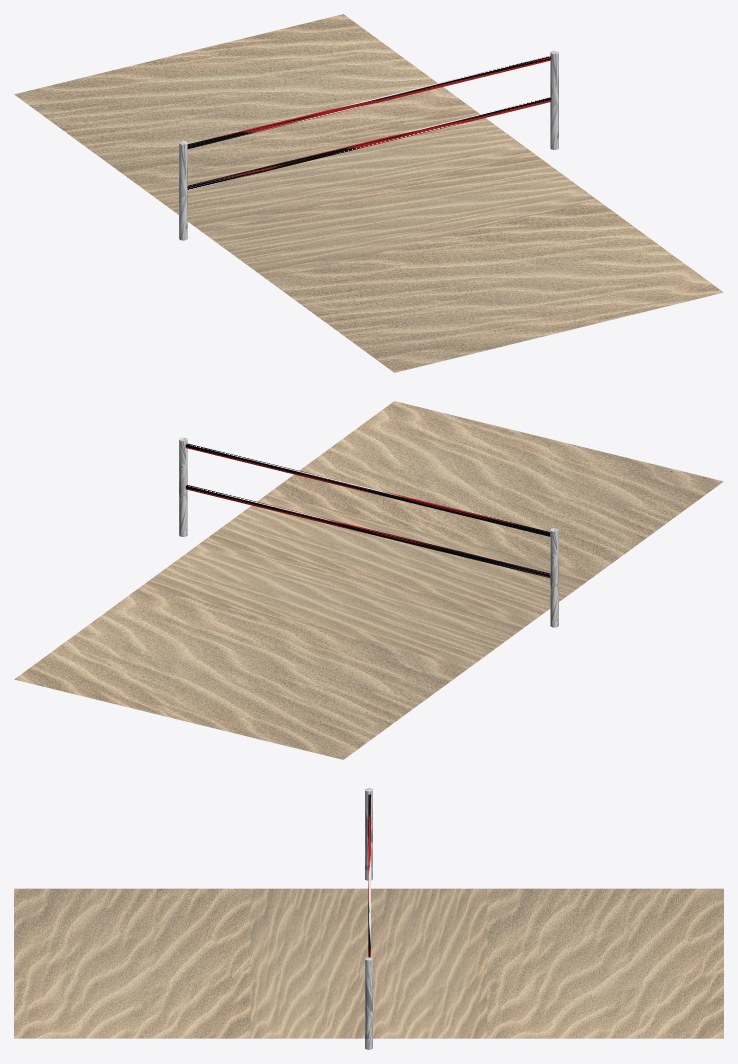
The model's file is Voleyball_Court.obj.
3 renders of one model, top to bottom at view 1: azimuth 30°, elevation 25°; view 2: azimuth 150°, elevation 25°; view 3: azimuth 270°, elevation 25°, orthographic. The views are drawn at different scales.
Parts seen in each view (by area): view 1: Plane.002, Plane.003, Plane, Plane.001, Cube.001, Cube, Cylinder.001, Cylinder; view 2: Plane.003, Plane.002, Plane.001, Plane, Cube, Cube.001, Cylinder.001, Cylinder; view 3: Plane.002, Plane.003, Plane, Plane.001, Cylinder, Cylinder.001, Cube.
Part boxes in pixels (left/top/right/bottom): Plane.002: left=268, top=200, right=723, bottom=372; Plane.003: left=14, top=14, right=469, bottom=186; Plane: left=204, top=153, right=596, bottom=279; Plane.001: left=141, top=107, right=533, bottom=233; Cube.001: left=187, top=97, right=551, bottom=190; Cube: left=187, top=56, right=551, bottom=148; Cylinder.001: left=179, top=141, right=187, bottom=240; Cylinder: left=550, top=50, right=558, bottom=149; Plane.003: left=14, top=587, right=469, bottom=759; Plane.002: left=268, top=401, right=723, bottom=573; Plane.001: left=141, top=540, right=533, bottom=666; Plane: left=204, top=494, right=596, bottom=620; Cube: left=185, top=443, right=550, bottom=536; Cube.001: left=185, top=485, right=550, bottom=577; Cylinder.001: left=550, top=528, right=558, bottom=627; Cylinder: left=179, top=437, right=187, bottom=536; Plane.002: left=14, top=888, right=250, bottom=1038; Plane.003: left=487, top=888, right=723, bottom=1038; Plane: left=250, top=888, right=368, bottom=1038; Plane.001: left=371, top=888, right=487, bottom=1038; Cylinder: left=365, top=957, right=372, bottom=1049; Cylinder.001: left=365, top=788, right=372, bottom=880; Cube: left=368, top=794, right=370, bottom=957.
Size of the model in its own units: 10.34 by 2.5 by 18.
3 materials, 3 textured.
